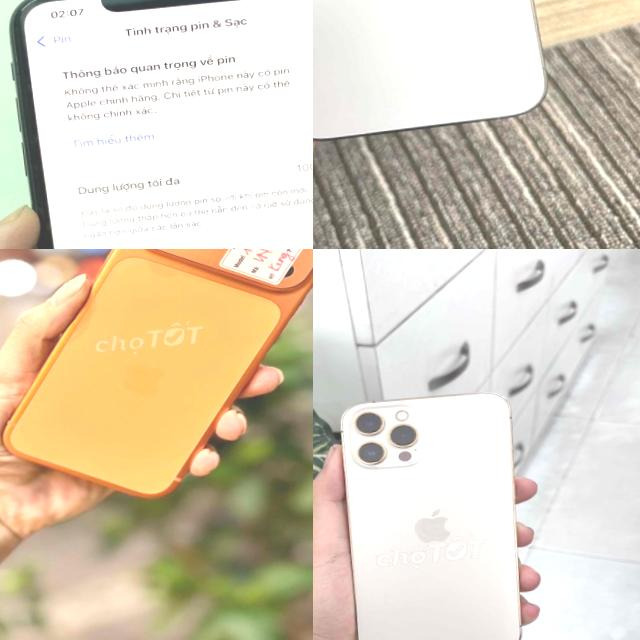gen_12_13: (313, 0, 550, 150)
gen_15: (329, 386, 537, 640)
gen_17: (0, 249, 313, 507)
gen_x_xs: (0, 0, 313, 249)
